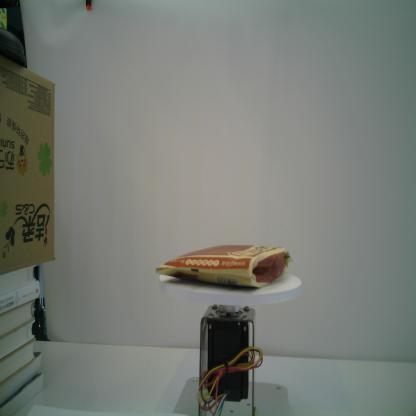Dried Food: (155, 244, 292, 289)
